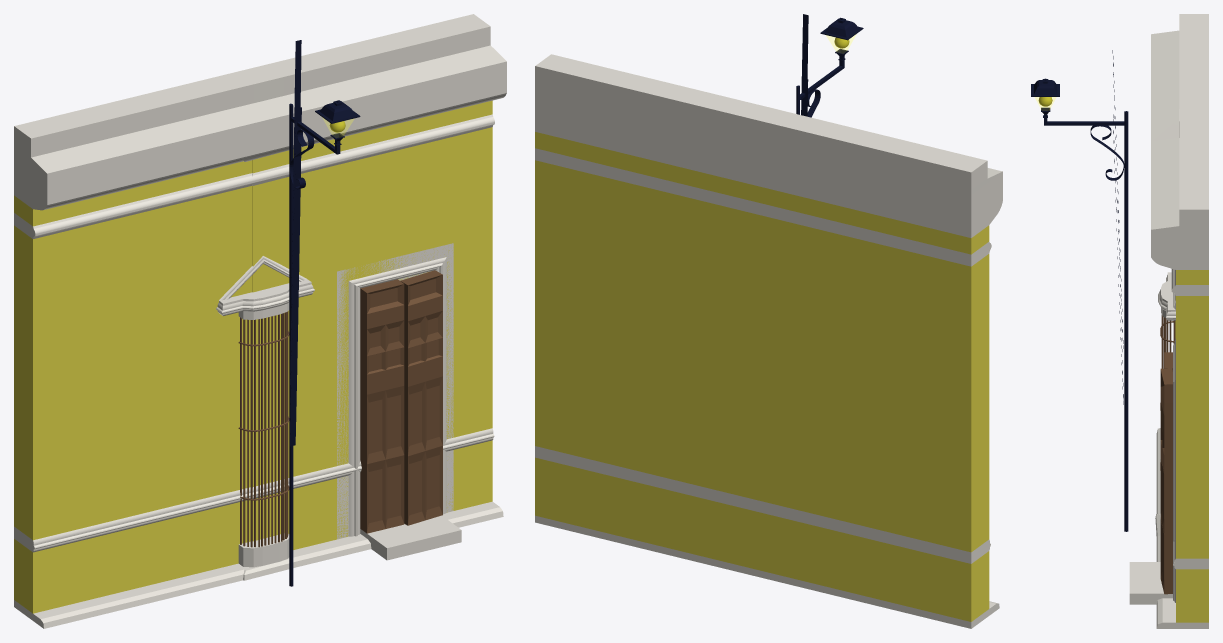
File: walls_1.fbx
The picture shows the model from 3 angles, left to right: view 1: azimuth 30°, elevation 25°; view 2: azimuth 150°, elevation 25°; view 3: azimuth 270°, elevation 25°; orthographic projection. The views are drawn at different scales.
Visible parts, largest first — view 1: Wall2x2x0.25, Door, Window, Corner90, PoleFlair1.001, Pole; view 2: Wall2x2x0.25, Corner90, Pole, PoleFlair1.001; view 3: Wall2x2x0.25, Door, Pole, Window, Corner90, PoleFlair1.001, PoleFlair1.
Boxes of the visible parts, bbox=[...] form: Wall2x2x0.25: bbox=[14, 14, 506, 628]; Door: bbox=[337, 243, 461, 560]; Window: bbox=[216, 256, 314, 567]; Corner90: bbox=[238, 64, 296, 580]; PoleFlair1.001: bbox=[290, 40, 301, 446]; Pole: bbox=[289, 100, 360, 586]; Wall2x2x0.25: bbox=[535, 54, 1002, 628]; Corner90: bbox=[731, 102, 785, 582]; Pole: bbox=[796, 17, 863, 114]; PoleFlair1.001: bbox=[801, 14, 808, 116]; Wall2x2x0.25: bbox=[1151, 14, 1208, 628]; Door: bbox=[1129, 338, 1175, 604]; Pole: bbox=[1031, 78, 1128, 531]; Window: bbox=[1158, 272, 1175, 470]; Corner90: bbox=[1151, 109, 1208, 540]; PoleFlair1.001: bbox=[1112, 50, 1123, 404]; PoleFlair1: bbox=[1090, 125, 1124, 180].
Bounding box in the file's own units: 200 × 229 × 76.84.
